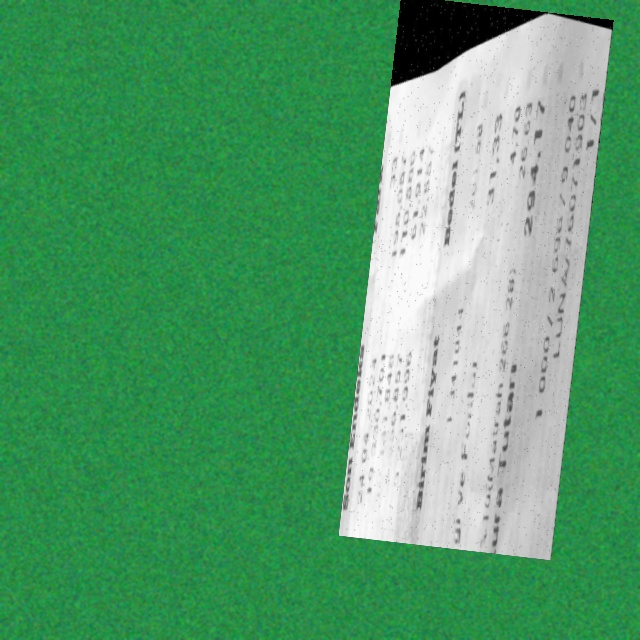electricity-bill: (338, 0, 614, 560)
